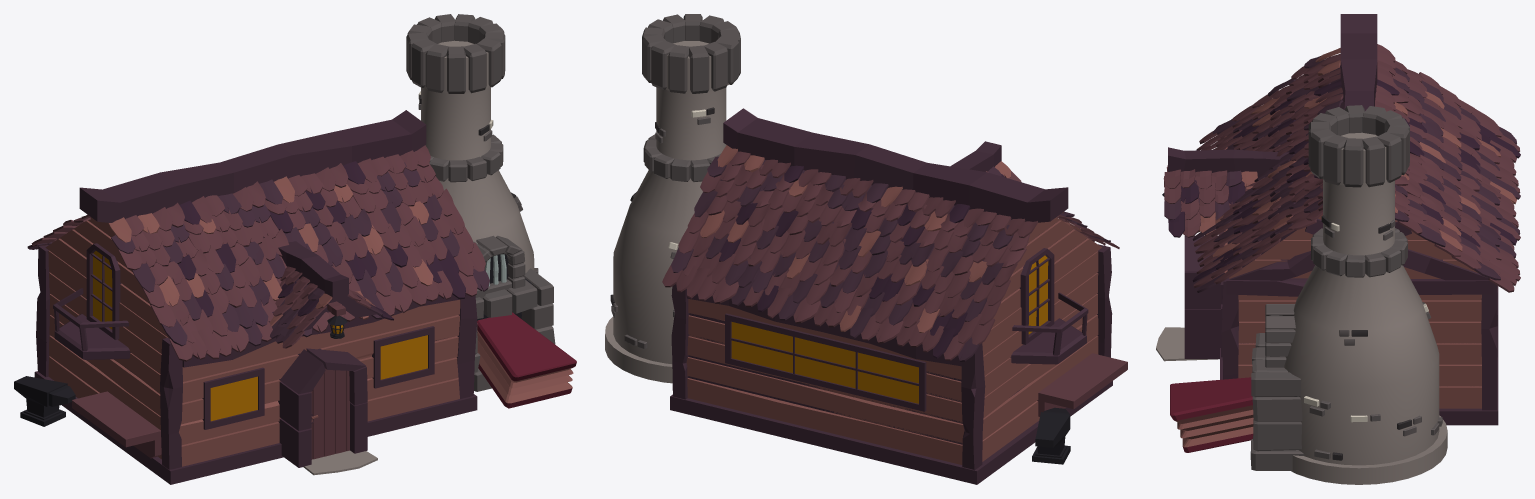
Rendered from casa-madeira10.fbx.
3 views of the same model, side by side, from view 1: azimuth 30°, elevation 25°; view 2: azimuth 150°, elevation 25°; view 3: azimuth 270°, elevation 25° (orthographic). The views are drawn at different scales.
Visible parts, largest first — view 1: Cube.146, Cube.009; view 2: Cube.146; view 3: Cube.146.
Boxes of the visible parts, x1,y1,x2,y2 form: Cube.146: (14, 14, 576, 484); Cube.009: (310, 368, 349, 459); Cube.146: (605, 14, 1127, 484); Cube.146: (1156, 14, 1520, 484).
Bounding box in the file's own units: 956 × 601 × 616.
